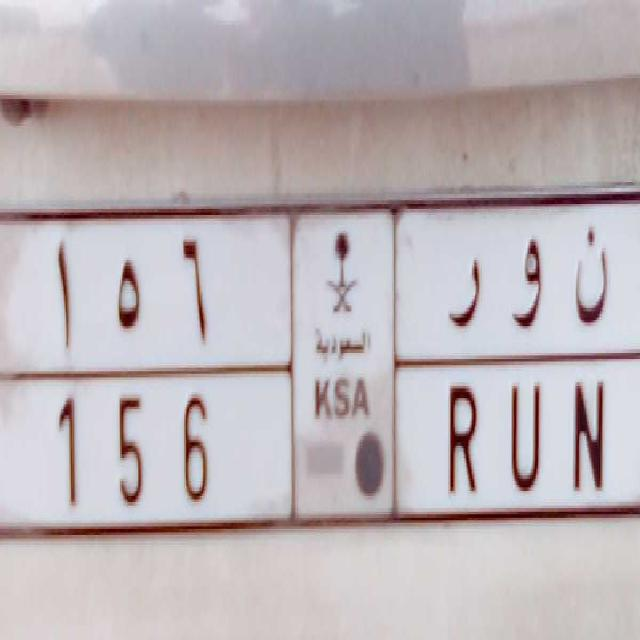license_plate: (28, 362, 622, 556)
